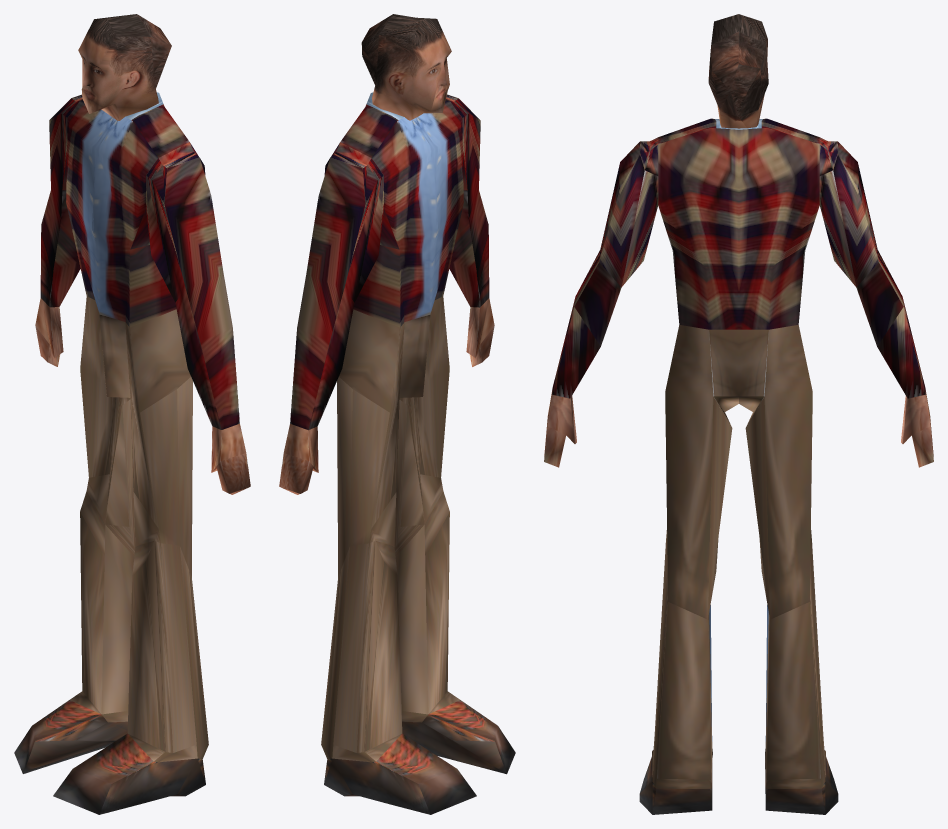
The model's file is man1.fbx.
The picture shows the model from 3 angles, left to right: view 1: azimuth 30°, elevation 25°; view 2: azimuth 150°, elevation 25°; view 3: azimuth 270°, elevation 25°; orthographic projection. The views are drawn at different scales.
Visible parts, largest first — view 1: man 1; view 2: man 1; view 3: man 1.
Boxes of the visible parts, <box> form: man 1: <box>14,14,250,814</box>; man 1: <box>279,14,515,814</box>; man 1: <box>544,14,933,814</box>.
Size of the model in its own units: 34.73 by 186 by 84.77.
Materials: 2 (2 with a texture image).
